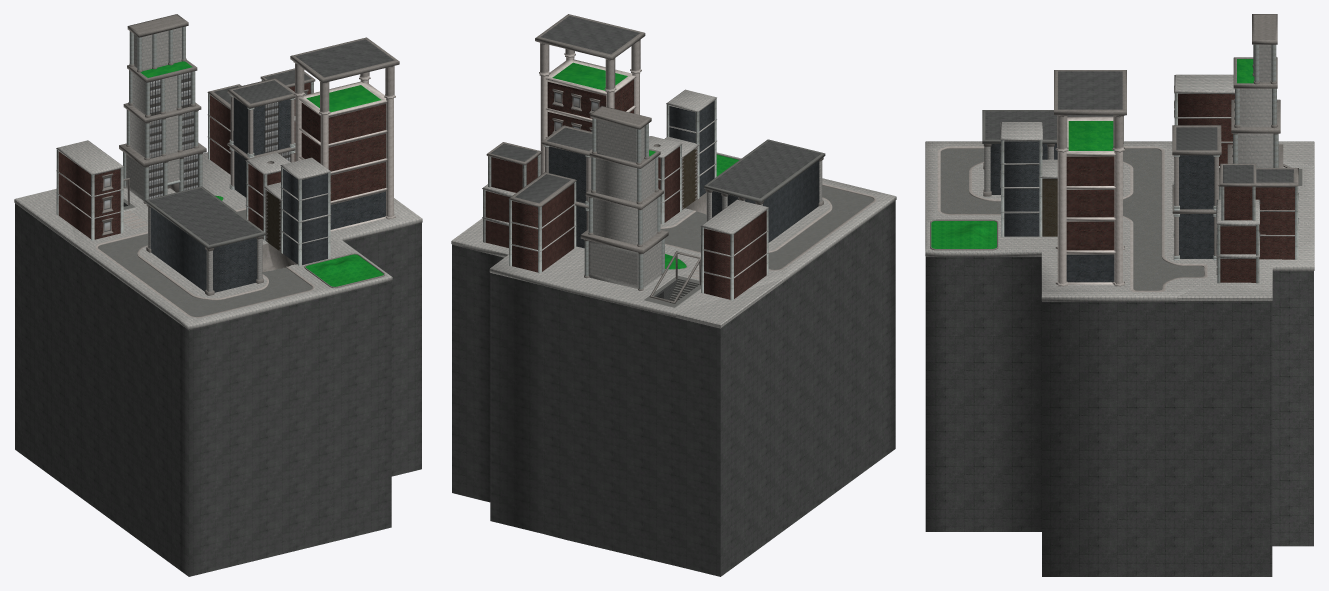
Rendered from MotionCityPlanet.fbx.
3 views of the same model, side by side, from view 1: azimuth 30°, elevation 25°; view 2: azimuth 150°, elevation 25°; view 3: azimuth 270°, elevation 25° (orthographic). The views are drawn at different scales.
Parts seen in each view (by area): view 1: ConcreteB.008, ConcreteB.003, ConcreteB.011, ConcreteB.009, ConcreteB.007, ConcreteB.005, ConcreteB, ConcreteB.010, ConcreteB.004, ConcreteB.001, ConcreteB.012, ConcreteB.006; view 2: ConcreteB.008, ConcreteB.003, ConcreteB.009, ConcreteB.011, ConcreteB.007, ConcreteB, ConcreteB.005, ConcreteB.001, ConcreteB.004, ConcreteB.012, ConcreteB.006; view 3: ConcreteB.008, ConcreteB.003, ConcreteB.009, ConcreteB.011, ConcreteB, ConcreteB.007, ConcreteB.004, ConcreteB.001, ConcreteB.012, ConcreteB.005, ConcreteB.006.
Boxes of the visible parts, box(x1,y1,x2,y2) form: ConcreteB.008: box(15, 39, 421, 576); ConcreteB.003: box(14, 27, 422, 330); ConcreteB.011: box(150, 97, 385, 292); ConcreteB.009: box(58, 82, 385, 239); ConcreteB.007: box(102, 14, 399, 295); ConcreteB.005: box(56, 26, 330, 265); ConcreteB: box(98, 186, 312, 316); ConcreteB.010: box(104, 72, 306, 231); ConcreteB.004: box(295, 79, 393, 231); ConcreteB.001: box(95, 62, 395, 317); ConcreteB.012: box(140, 61, 383, 286); ConcreteB.006: box(266, 191, 280, 250); ConcreteB.008: box(452, 16, 895, 576); ConcreteB.003: box(451, 89, 896, 328); ConcreteB.009: box(485, 79, 766, 299); ConcreteB.011: box(548, 101, 819, 248); ConcreteB.007: box(486, 14, 823, 303); ConcreteB: box(644, 139, 873, 307); ConcreteB.005: box(483, 99, 768, 300); ConcreteB.001: box(539, 39, 876, 278); ConcreteB.004: box(540, 57, 639, 174); ConcreteB.012: box(552, 62, 738, 269); ConcreteB.006: box(682, 149, 696, 208); ConcreteB.008: box(925, 71, 1313, 576); ConcreteB.003: box(925, 44, 1314, 301); ConcreteB.009: box(1066, 94, 1294, 282); ConcreteB.011: box(990, 141, 1214, 282); ConcreteB: box(940, 110, 1302, 290); ConcreteB.007: box(930, 14, 1298, 274); ConcreteB.004: box(1057, 116, 1122, 284); ConcreteB.001: box(937, 115, 1218, 291); ConcreteB.012: box(931, 59, 1254, 248); ConcreteB.005: box(1001, 44, 1298, 283); ConcreteB.006: box(1042, 179, 1057, 236).
Size of the model in its own units: 1382700 by 1903800 by 1458900.
13 materials, 13 textured.
